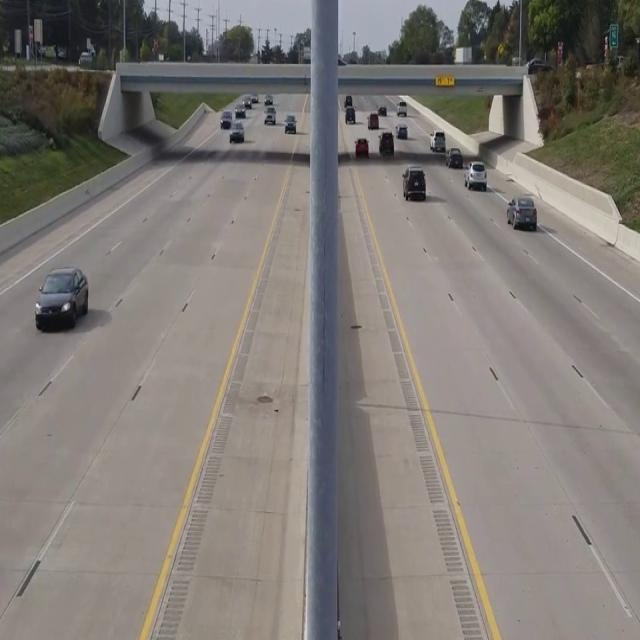car: (34, 266, 89, 331), (507, 195, 537, 230), (402, 167, 426, 200), (464, 160, 487, 190)
